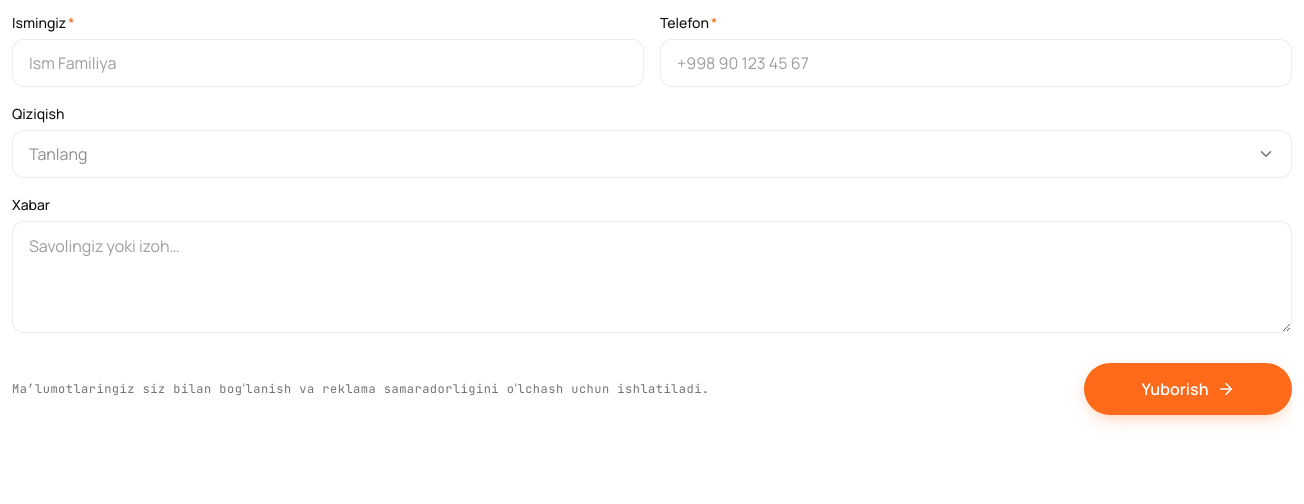
Test: <LeadForm /> › shows a network error message when fetch rejects
The width and height of the screenshot is (1304, 504).
Type "Ali Valiyev" into the field labelled "Ismingiz*" at x=328, y=63, box [12, 39, 644, 87]
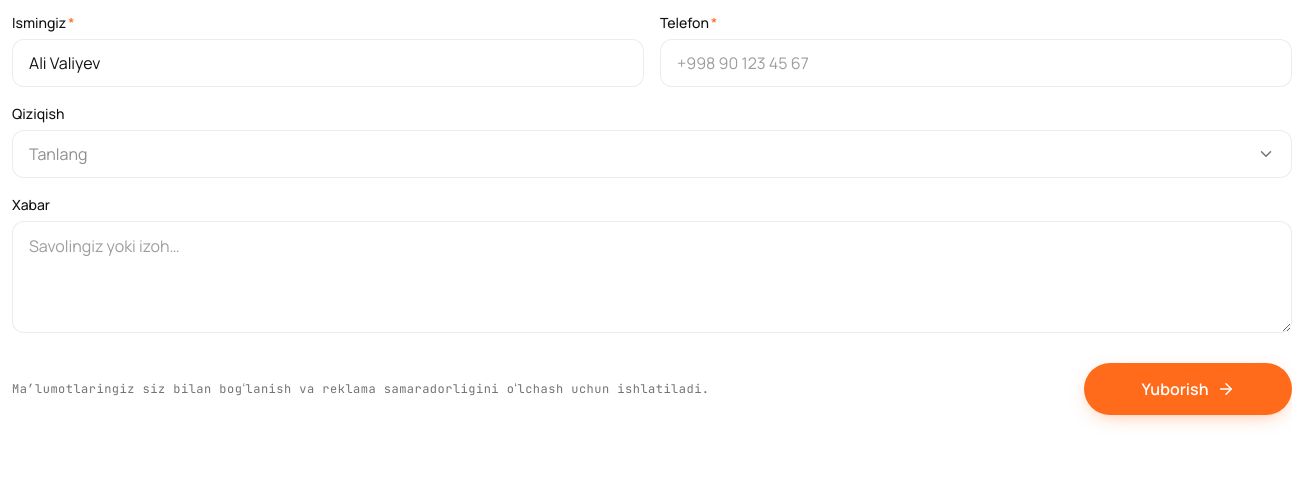
Type "1234567" into the field labelled "Telefon*" at x=976, y=63, box [660, 39, 1292, 87]
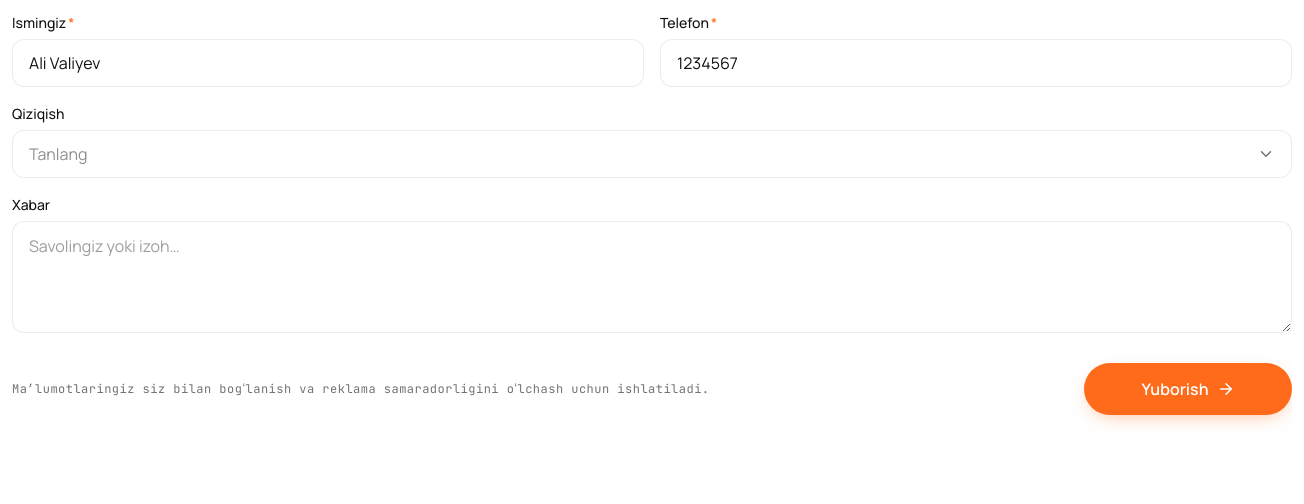
Click the button "Yuborish" at x=1188, y=389, box [1084, 363, 1292, 415]
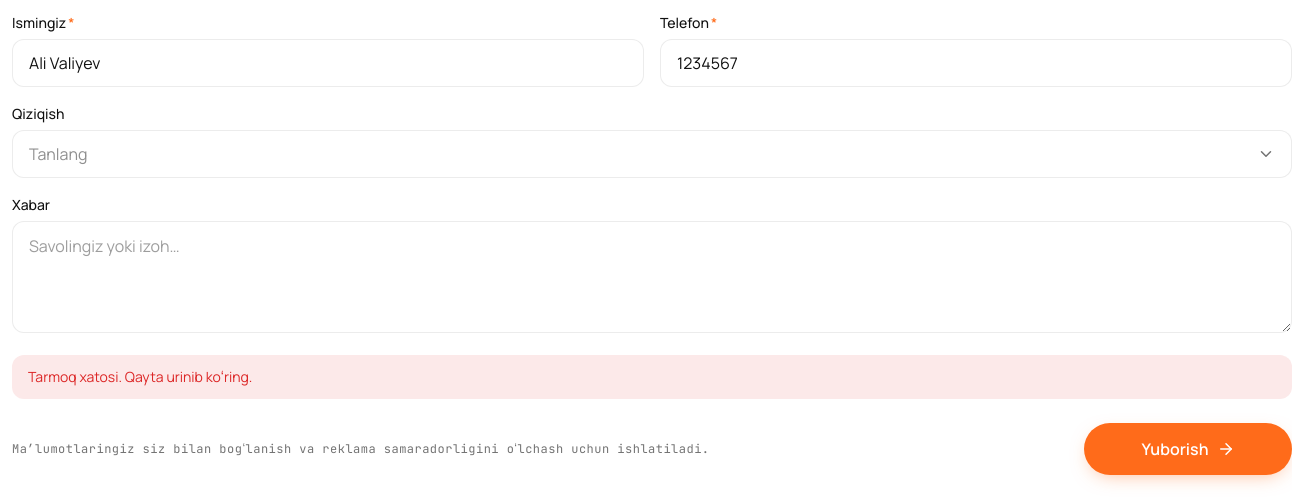
Expected: the message shows "Tarmoq xatosi", [28, 367, 252, 386]
